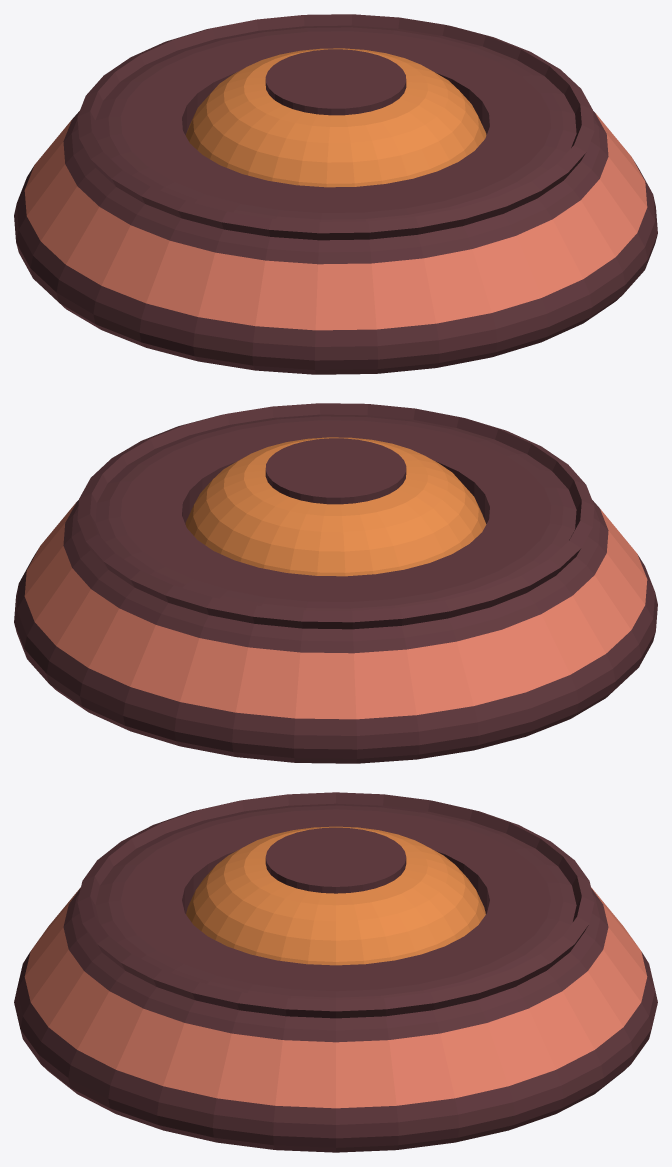
The model's file is landmine.fbx.
3 views of the same model, one above another, from view 1: azimuth 30°, elevation 25°; view 2: azimuth 150°, elevation 25°; view 3: azimuth 270°, elevation 25° (orthographic).
Visible parts, largest first — view 1: Cylinder; view 2: Cylinder; view 3: Cylinder.
Boxes of the visible parts, box(x1,y1,x2,y2) form: Cylinder: box(14, 14, 657, 374); Cylinder: box(14, 403, 657, 763); Cylinder: box(14, 792, 657, 1152).
Size of the model in its own units: 183 by 53.62 by 183.
